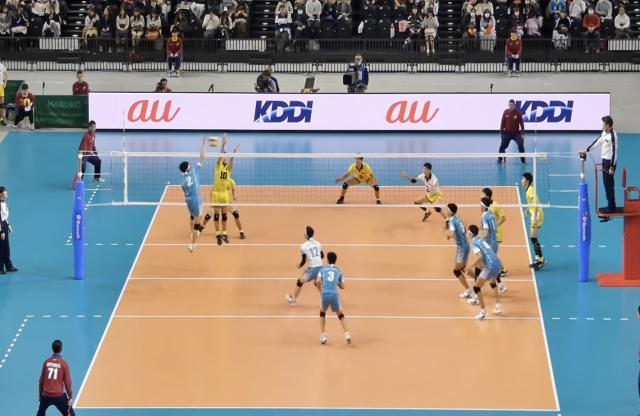spike: (175, 134, 222, 257)
